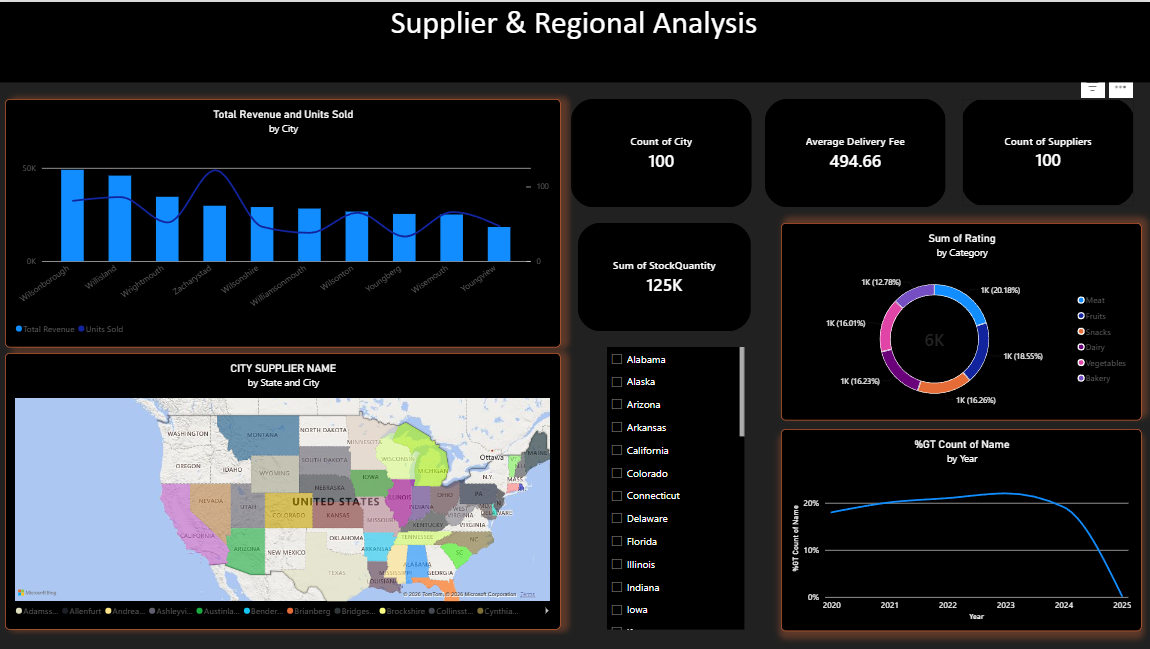

Layout of this report page (visuals, bound fields, positions):
{"tool":"powerbi","page":{"name":"Page 2","canvas":[1920,1080],"ordinal":1},"visuals":[{"type":"donutChart","fields":{"Category":["products.Category"],"Y":["Sum(reviews.Rating)"]},"box":[1304.3,368.6,601.4,328.6],"z":0},{"type":"filledMap","fields":{"Category":["suppliers.State"],"Series":["suppliers.City"]},"box":[11.4,585.7,925.7,461.4],"z":1000},{"type":"cardVisual","fields":{"Data":["orders.Average Delivery Fee"]},"box":[1279,161.4,301.1,180],"z":2000},{"type":"lineChart","fields":{"Category":["customers.SignupDate.Variation.Date Hierarchy.Year","customers.SignupDate.Variation.Date Hierarchy.Month","customers.SignupDate.Variation.Date Hierarchy.Day"],"Y":["CountNonNull(customers.Name)"]},"box":[1304.3,711.4,601.4,337.1],"z":3000},{"type":"cardVisual","fields":{"Data":["Count(suppliers.City)"]},"box":[954.6,161.4,301.1,180],"z":4000},{"type":"cardVisual","fields":{"Data":["CountNonNull(suppliers.SupplierName)"]},"box":[1606.5,161.4,287.1,178.5],"z":5000},{"type":"slicer","fields":{"Values":["suppliers.State"]},"box":[1014.3,575.7,228.6,471.4],"z":6000},{"type":"textbox","title":".","box":[0,0,1920,134.5],"z":7000},{"type":"cardVisual","fields":{"Data":["Sum(products.StockQuantity)"]},"box":[967,367.9,288.7,180],"z":8000},{"type":"lineStackedColumnComboChart","fields":{"Category":["customers.City"],"Y":["orders.Total Revenue"],"Y2":["orders.Units Sold"]},"box":[11.7,161.9,925.7,414.3],"z":9000}]}

Visuals, with their boxes in screenshot pixels (x1, y1, x2, y2), scaled from the page's 1920x1080 canvas onto the 1150x649 screenshot:
donutChart - products.Category x Sum(reviews.Rating): x1=781, y1=222, x2=1141, y2=419
filledMap - suppliers.State x suppliers.City: x1=7, y1=352, x2=561, y2=629
cardVisual - orders.Average Delivery Fee: x1=766, y1=97, x2=946, y2=205
lineChart - customers.SignupDate.Variation.Date Hierarchy.Year x customers.SignupDate.Variation.Date Hierarchy.Month: x1=781, y1=427, x2=1141, y2=630
cardVisual - Count(suppliers.City): x1=572, y1=97, x2=752, y2=205
cardVisual - CountNonNull(suppliers.SupplierName): x1=962, y1=97, x2=1134, y2=204
slicer - suppliers.State: x1=608, y1=346, x2=744, y2=629
"." textbox: x1=0, y1=0, x2=1149, y2=81
cardVisual - Sum(products.StockQuantity): x1=579, y1=221, x2=752, y2=329
lineStackedColumnComboChart - customers.City x orders.Total Revenue: x1=7, y1=97, x2=561, y2=346
